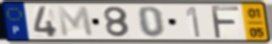0: (136, 5, 167, 39)
1: (185, 5, 202, 39)
4: (32, 5, 59, 39)
8: (102, 5, 131, 39)
F: (209, 5, 242, 40)
M: (56, 5, 96, 38)
